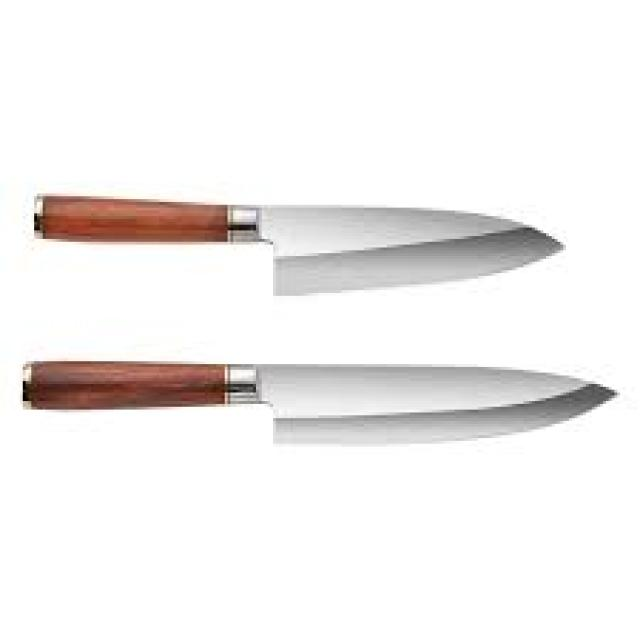Knife: (31, 193, 563, 296), (23, 361, 617, 447)
